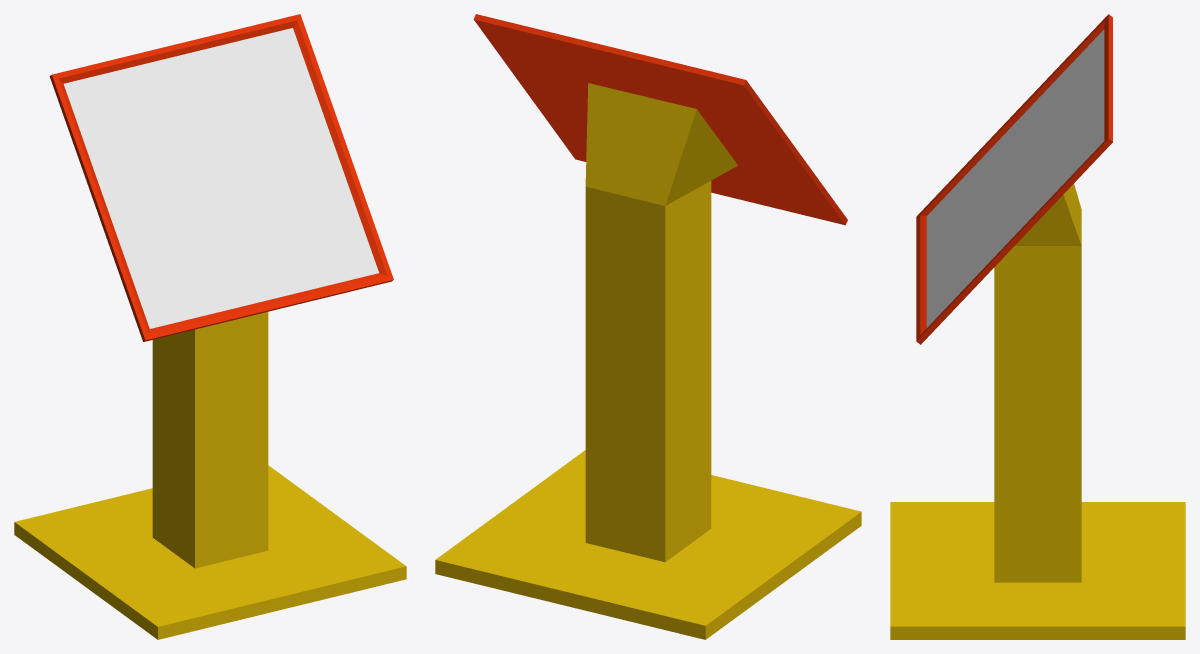
Rendered from Sign(Square).fbx.
3 views of the same model, side by side, from view 1: azimuth 30°, elevation 25°; view 2: azimuth 150°, elevation 25°; view 3: azimuth 270°, elevation 25° (orthographic). The views are drawn at different scales.
Parts seen in each view (by area): view 1: Plate(Square), Base; view 2: Base, Plate(Square); view 3: Base, Plate(Square).
Part boxes in pixels (bbox=[...]): Plate(Square): bbox=[49, 14, 393, 341]; Base: bbox=[14, 312, 406, 639]; Base: bbox=[435, 83, 861, 639]; Plate(Square): bbox=[473, 14, 847, 225]; Base: bbox=[890, 184, 1185, 639]; Plate(Square): bbox=[916, 14, 1112, 344].
Size of the model in its own units: 200 by 375 by 200.
